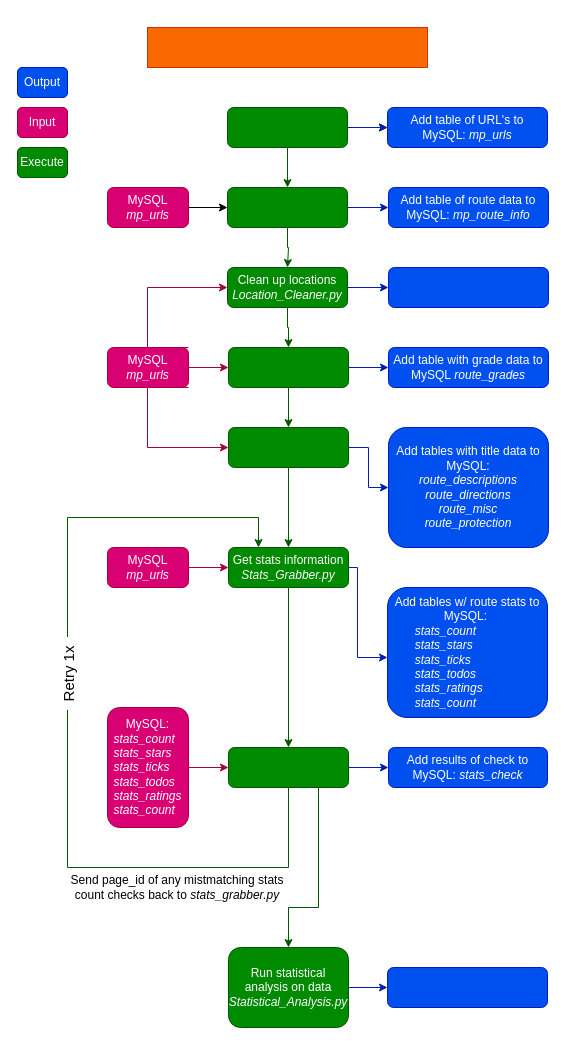
This 566x1045 diagram has some shape labels left out. Each missing label, with the centre of its shape:
"Add statistical data to MySQL: stats_analysis" goes at pixel 467 987.
"Add table with location data to MySQL route_location" goes at pixel 468 287.
"Check stats counts stats_check.py" goes at pixel 288 767.
"Cleanup grades grade_cleaner.py" goes at pixel 288 367.
"Cleanup page titles Titles_Cleaner.py" goes at pixel 288 447.
"Get list of site url's URL_Grabber.py" goes at pixel 287 127.
"Get route information Route_Grabber.py" goes at pixel 287 207.
"Project Flow Chart" goes at pixel 287 47.
